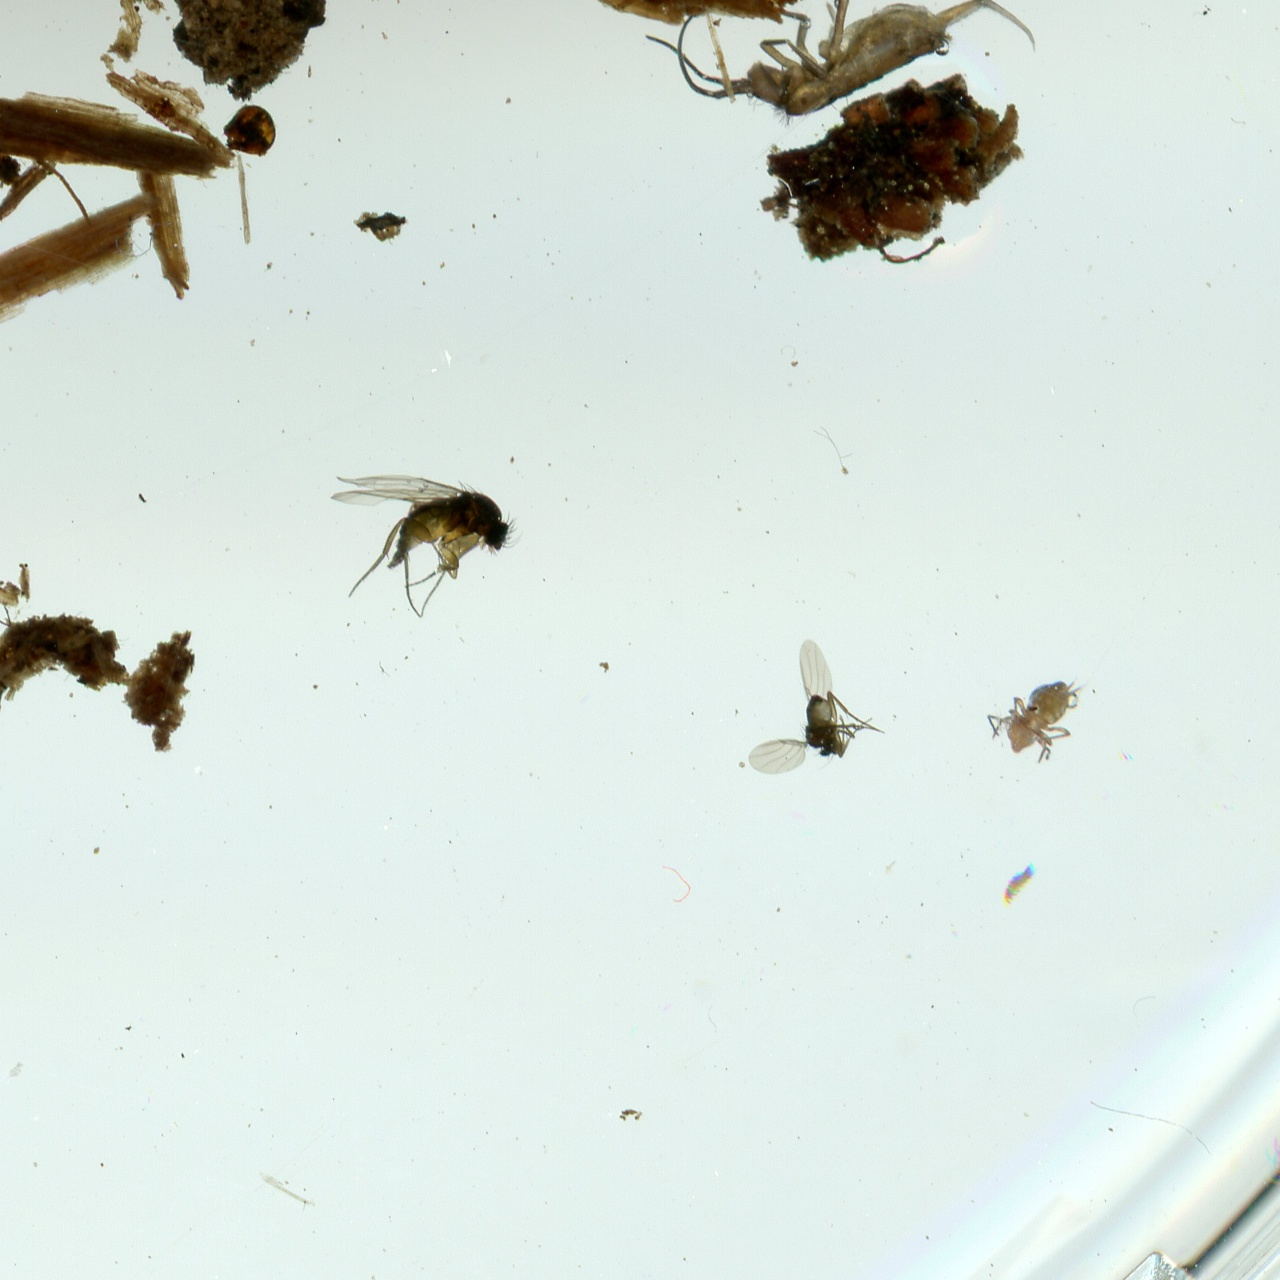arthropod: (639, 0, 1046, 217), (328, 470, 530, 622), (745, 635, 888, 778), (985, 672, 1090, 765), (992, 852, 1043, 917), (0, 594, 7, 681)
